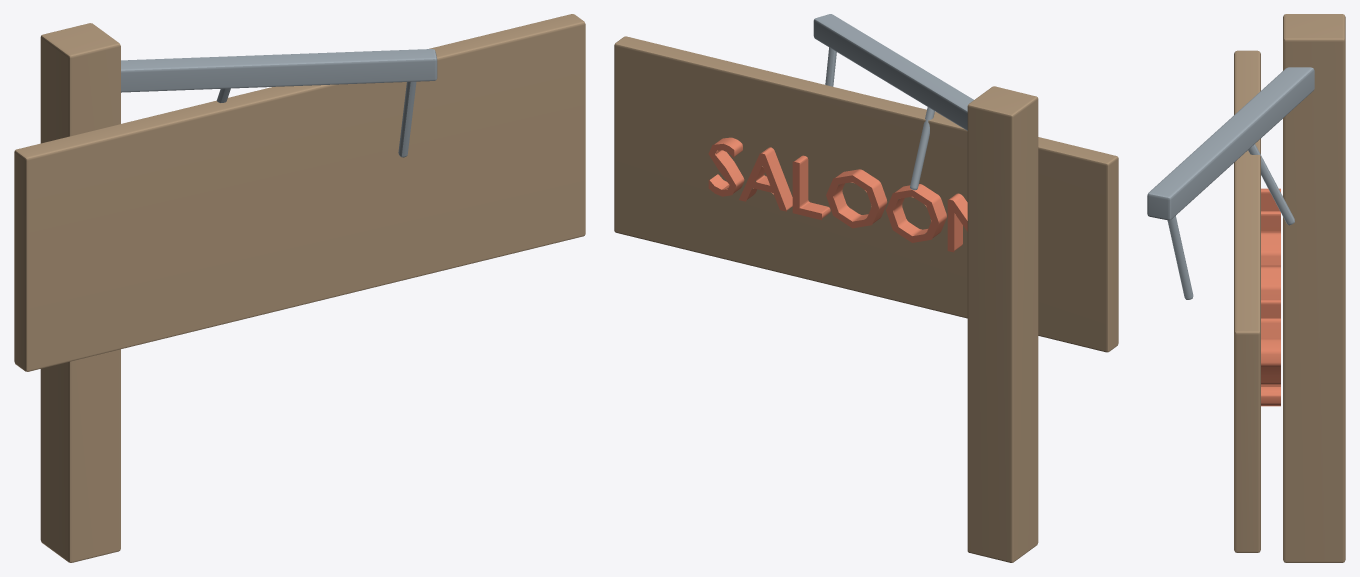
The model's file is shop_sign.glb.
The picture shows the model from 3 angles, left to right: view 1: azimuth 30°, elevation 25°; view 2: azimuth 150°, elevation 25°; view 3: azimuth 270°, elevation 25°; orthographic projection. The views are drawn at different scales.
Visible parts, largest first — view 1: shop_sign; view 2: shop_sign; view 3: shop_sign.
Boxes of the visible parts, x1,y1,x2,y2 form: shop_sign: (14, 14, 585, 562); shop_sign: (614, 14, 1118, 562); shop_sign: (1147, 14, 1345, 562).
Size of the model in its own units: 1.5 by 1.3 by 0.4445.
